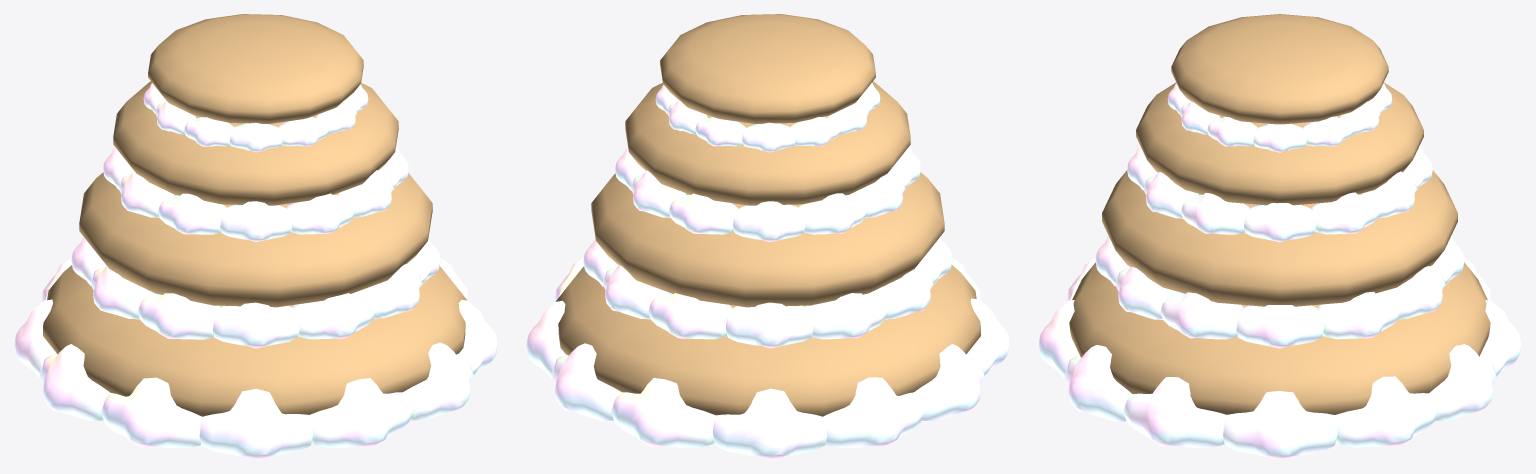
The model's file is track2Building5.glb.
The picture shows the model from 3 angles, left to right: view 1: azimuth 30°, elevation 25°; view 2: azimuth 150°, elevation 25°; view 3: azimuth 270°, elevation 25°; orthographic projection.
Visible parts, largest first — view 1: track2building5; view 2: track2building5; view 3: track2building5.
Boxes of the visible parts, <box> form: track2building5: <box>14,14,497,459</box>; track2building5: <box>526,14,1009,459</box>; track2building5: <box>1038,14,1521,459</box>.
Size of the model in its own units: 4.89 by 3.75 by 4.89.
2 materials, 1 textured.
